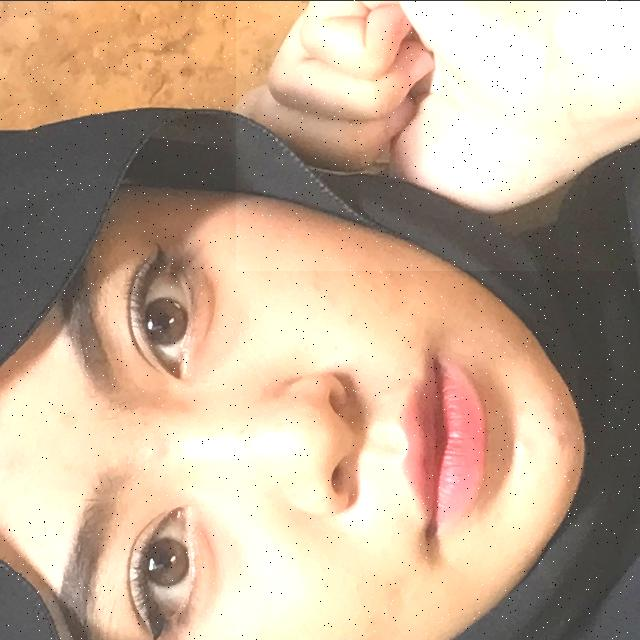ibu: (236, 0, 640, 270)
